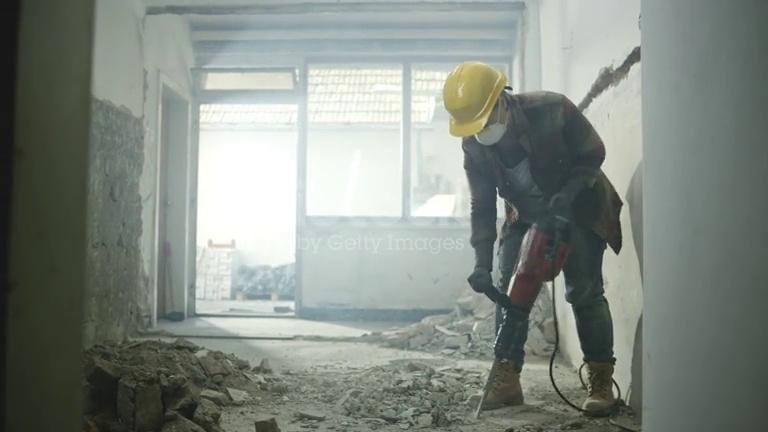helmet: (442, 61, 508, 138)
mask: (472, 122, 510, 146)
person: (443, 60, 625, 415)
